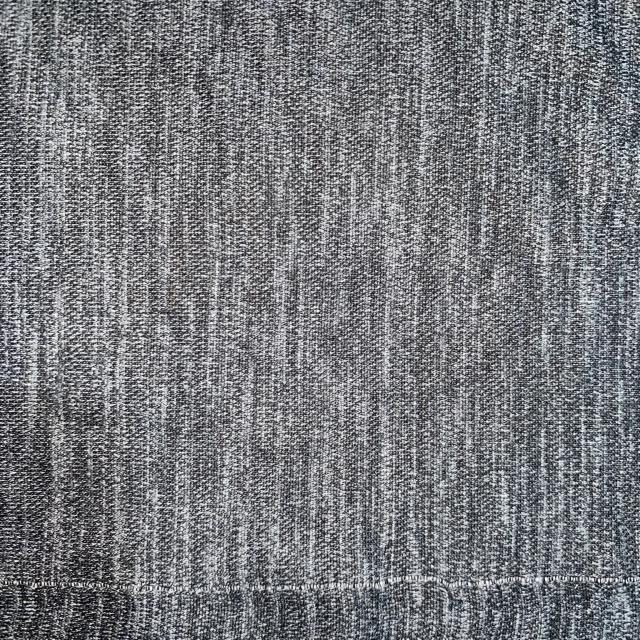Line: (4, 571, 640, 594)
